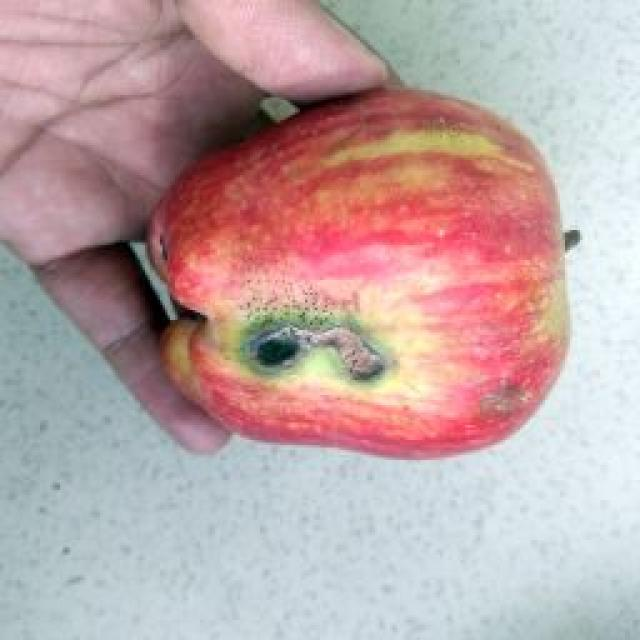Bad_Apple: (149, 89, 568, 457)
